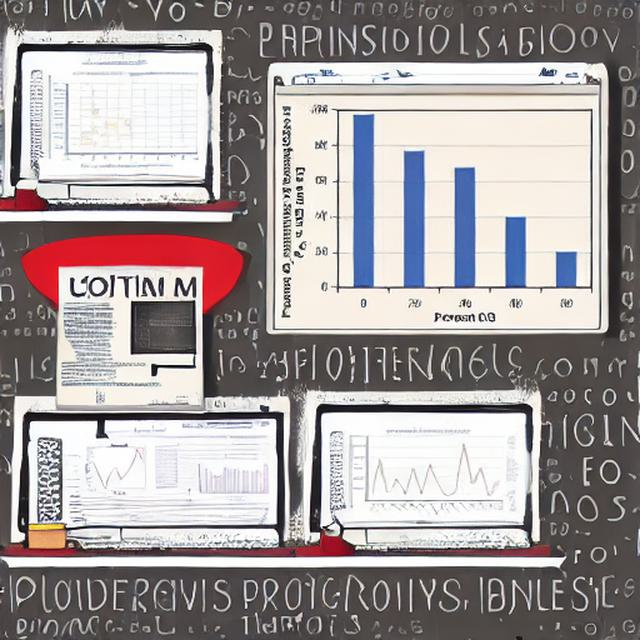Graph: (273, 94, 602, 331), (45, 65, 201, 171), (346, 425, 505, 519), (82, 441, 154, 495), (192, 456, 270, 500), (139, 320, 196, 354)
